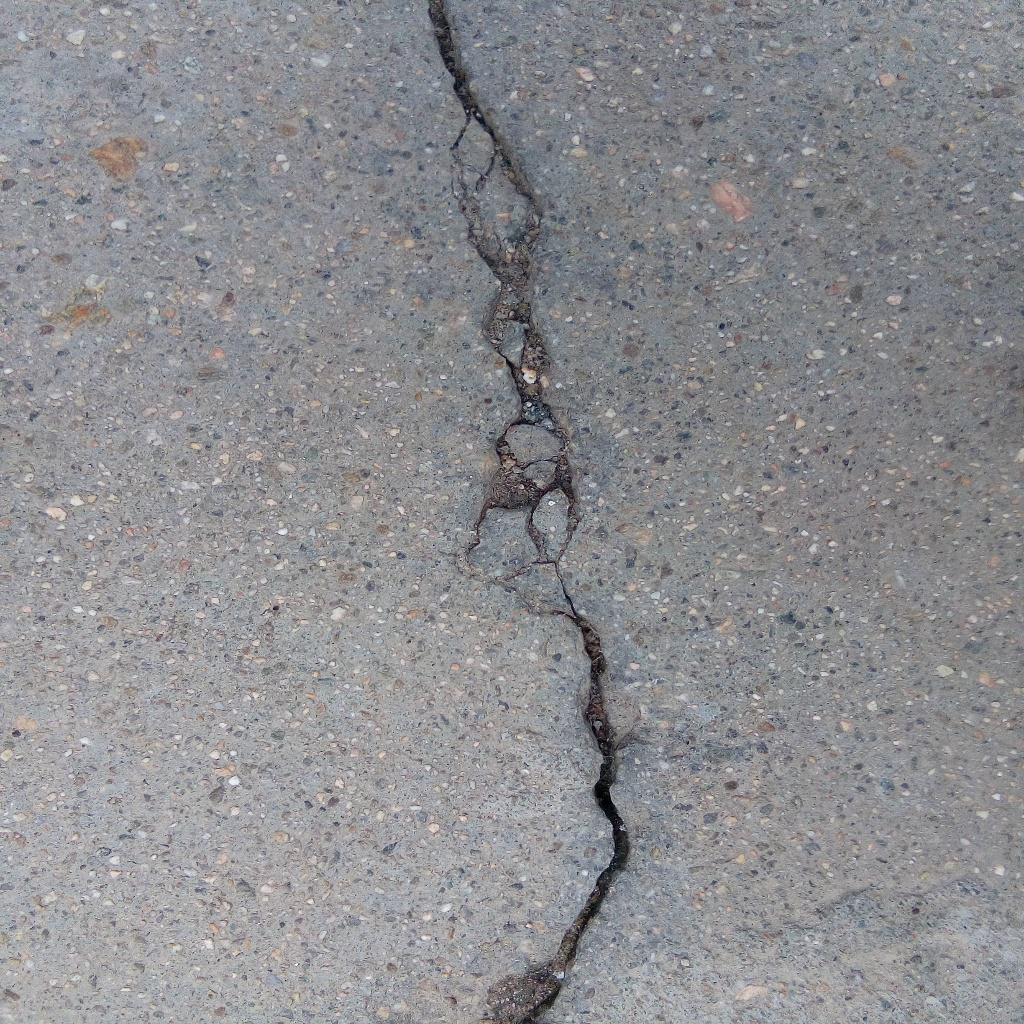Crack: (424, 1, 631, 1024)
